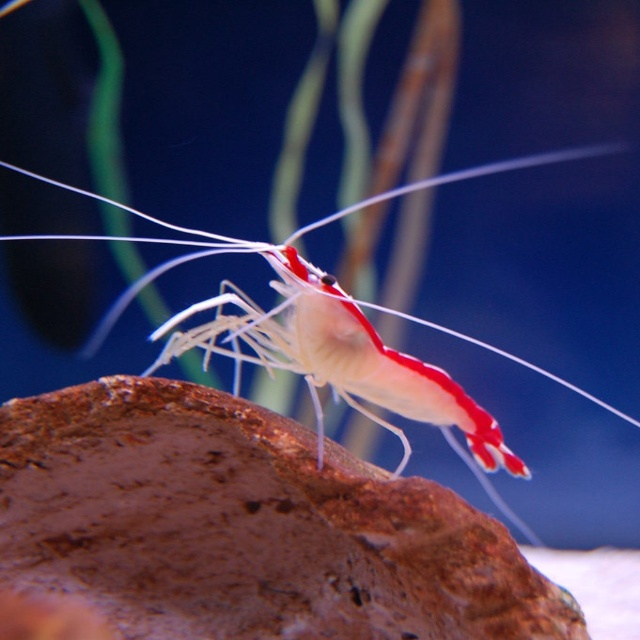Shrimp: (0, 140, 639, 549)
